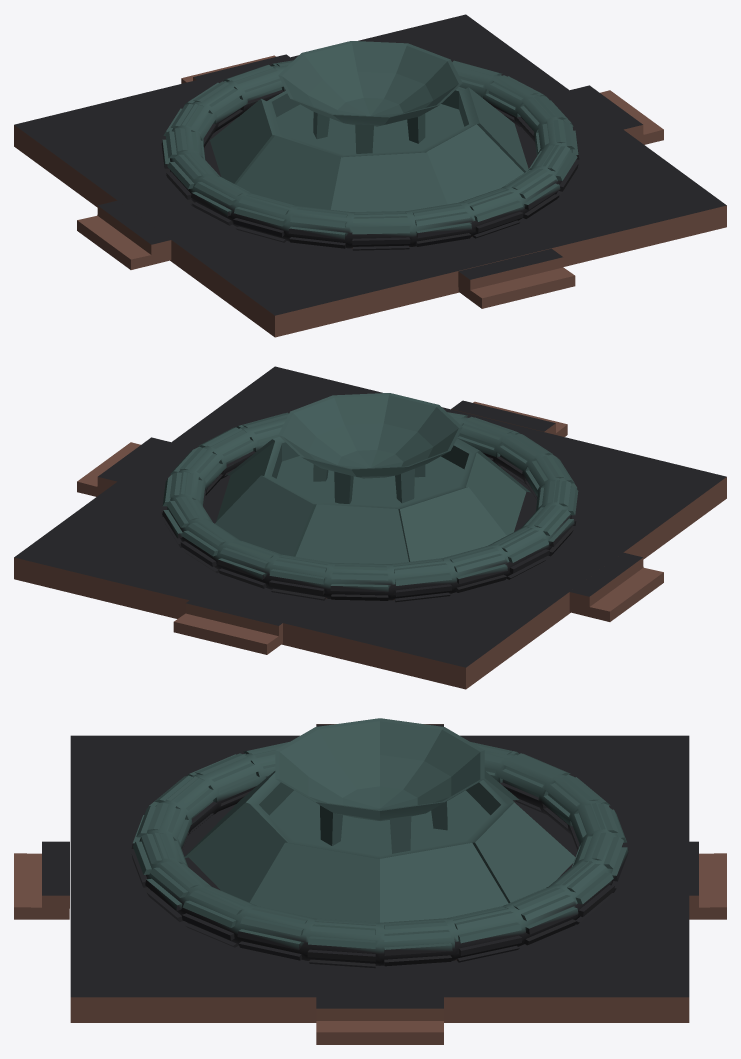
3 renders of one model, top to bottom at view 1: azimuth 30°, elevation 25°; view 2: azimuth 150°, elevation 25°; view 3: azimuth 270°, elevation 25°, orthographic. The views are drawn at different scales.
Parts seen in each view (by area): view 1: pCube9:PIV; view 2: pCube9:PIV; view 3: pCube9:PIV.
Part boxes in pixels (box(x1,y1,x2,y2)): pCube9:PIV: box(14, 14, 726, 337); pCube9:PIV: box(14, 366, 726, 689); pCube9:PIV: box(14, 718, 726, 1044).
Bounding box in the file's own units: 73.12 × 14.12 × 71.46.
